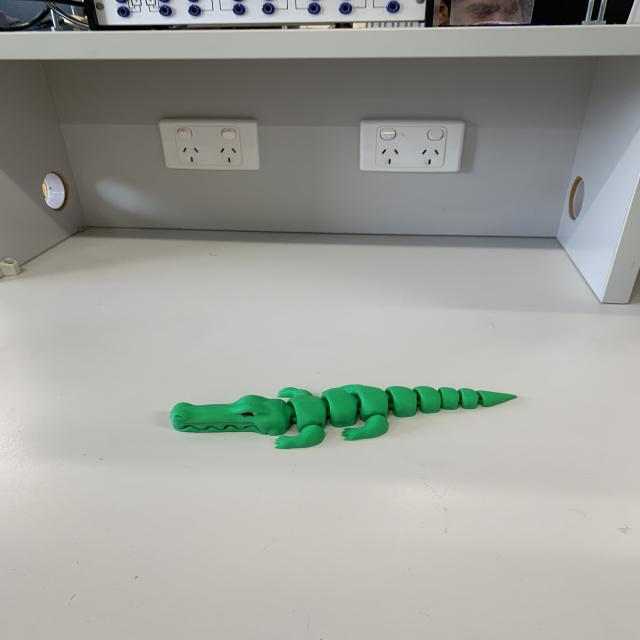crocodile: (164, 361, 525, 456)
